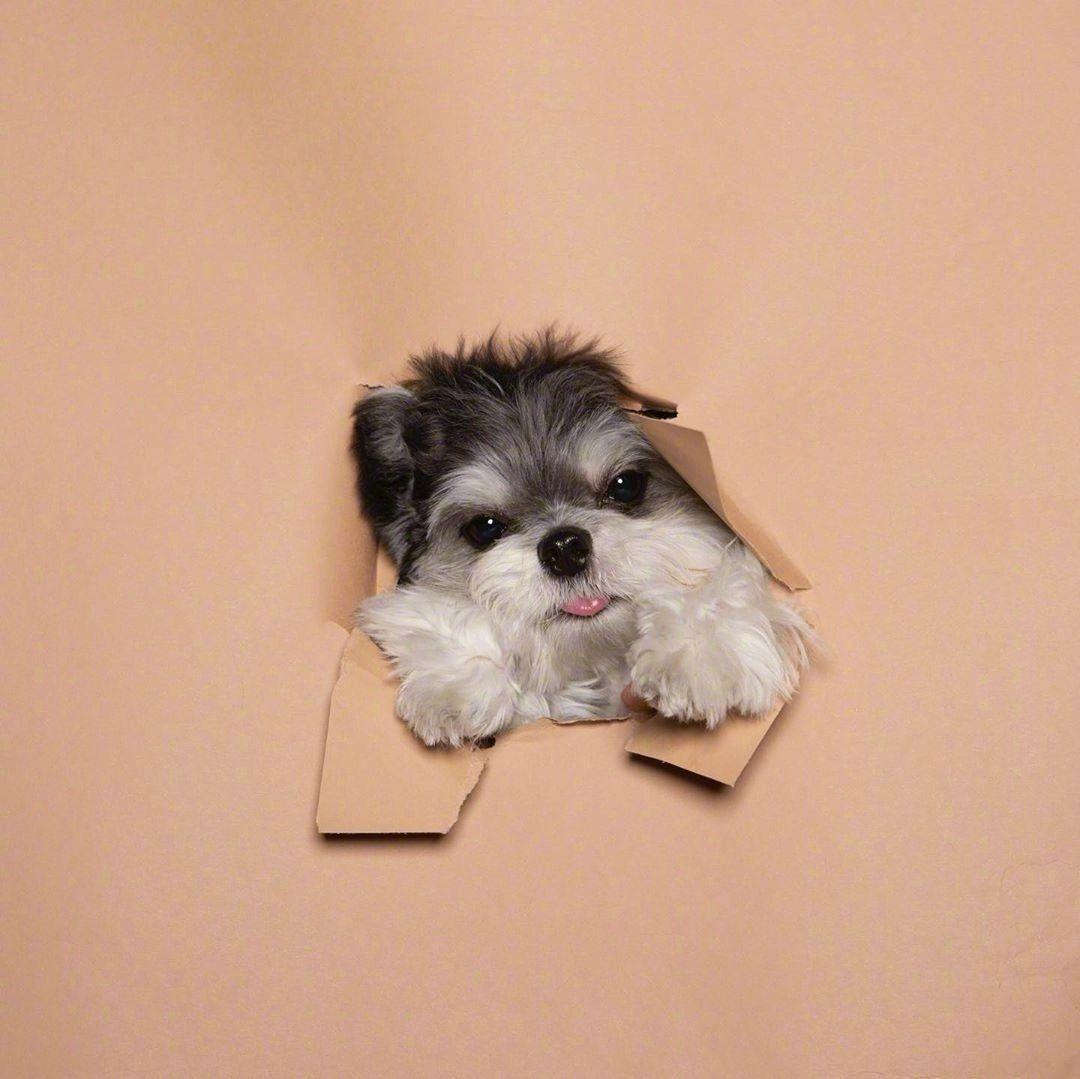puppy-dog: (346, 330, 818, 751)
